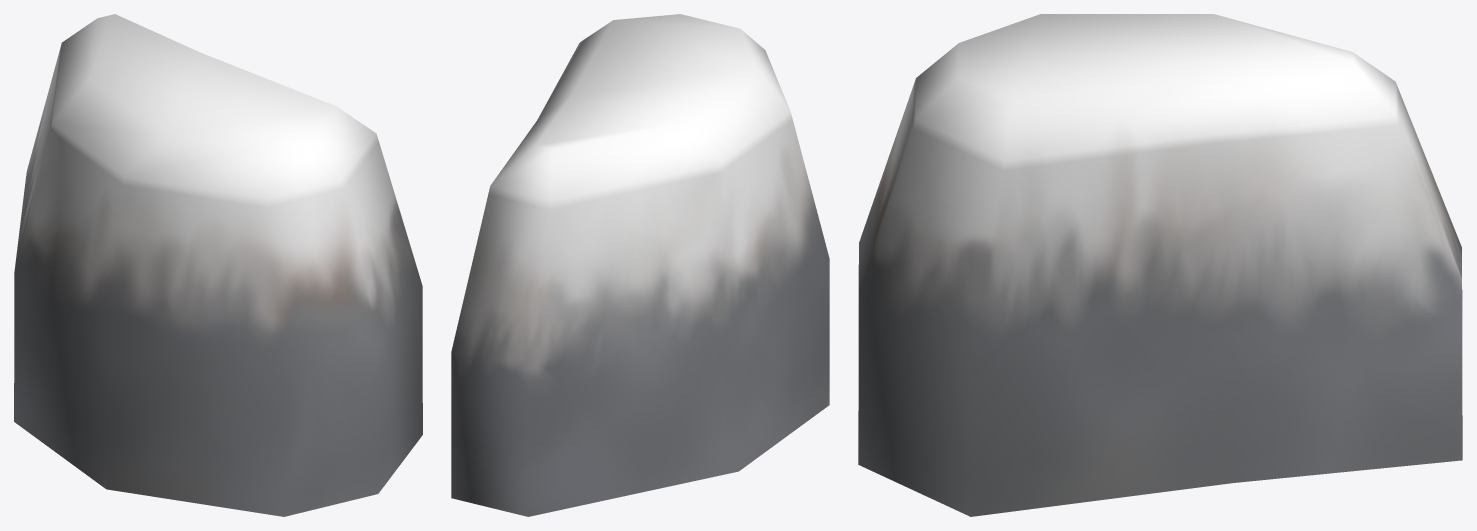
Rendered from LargeRock.fbx.
The picture shows the model from 3 angles, left to right: view 1: azimuth 30°, elevation 25°; view 2: azimuth 150°, elevation 25°; view 3: azimuth 270°, elevation 25°; orthographic projection. The views are drawn at different scales.
Visible parts, largest first — view 1: Cube.001; view 2: Cube.001; view 3: Cube.001.
Boxes of the visible parts, x1,y1,x2,y2 form: Cube.001: (14, 14, 422, 516); Cube.001: (451, 14, 829, 516); Cube.001: (858, 14, 1462, 516).
Bounding box in the file's own units: 462 × 500 × 725.
